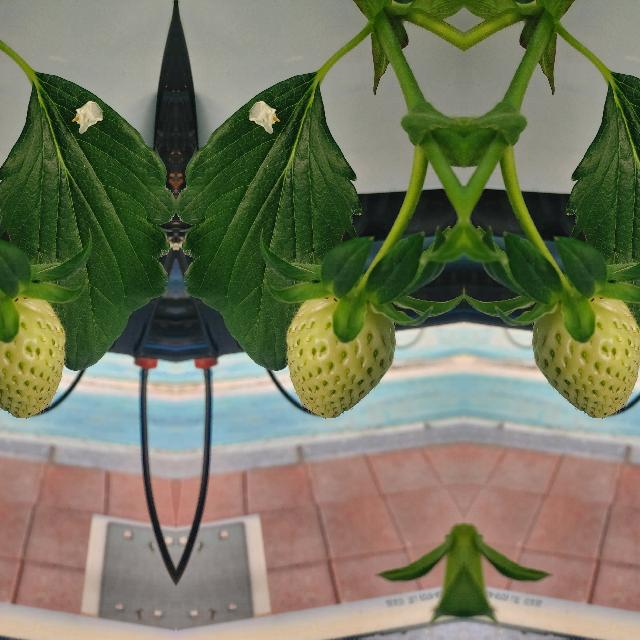Health_25: (282, 294, 396, 418), (530, 294, 640, 418), (0, 294, 67, 418)
